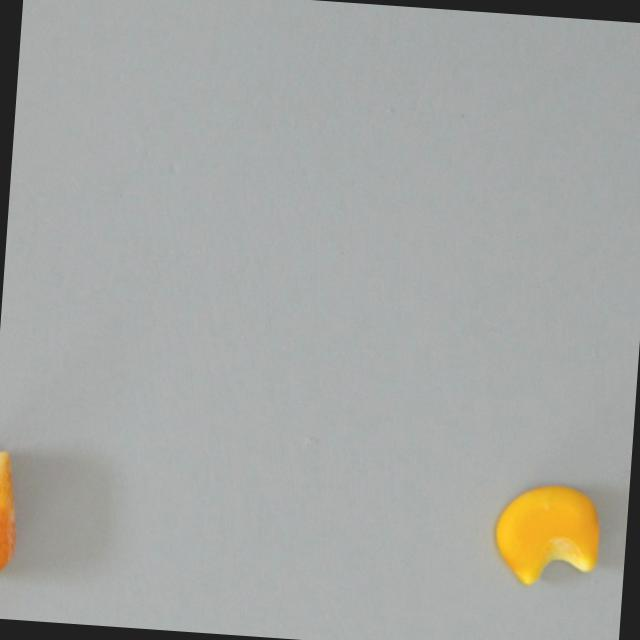dañado: (489, 481, 609, 597), (0, 434, 41, 590)
